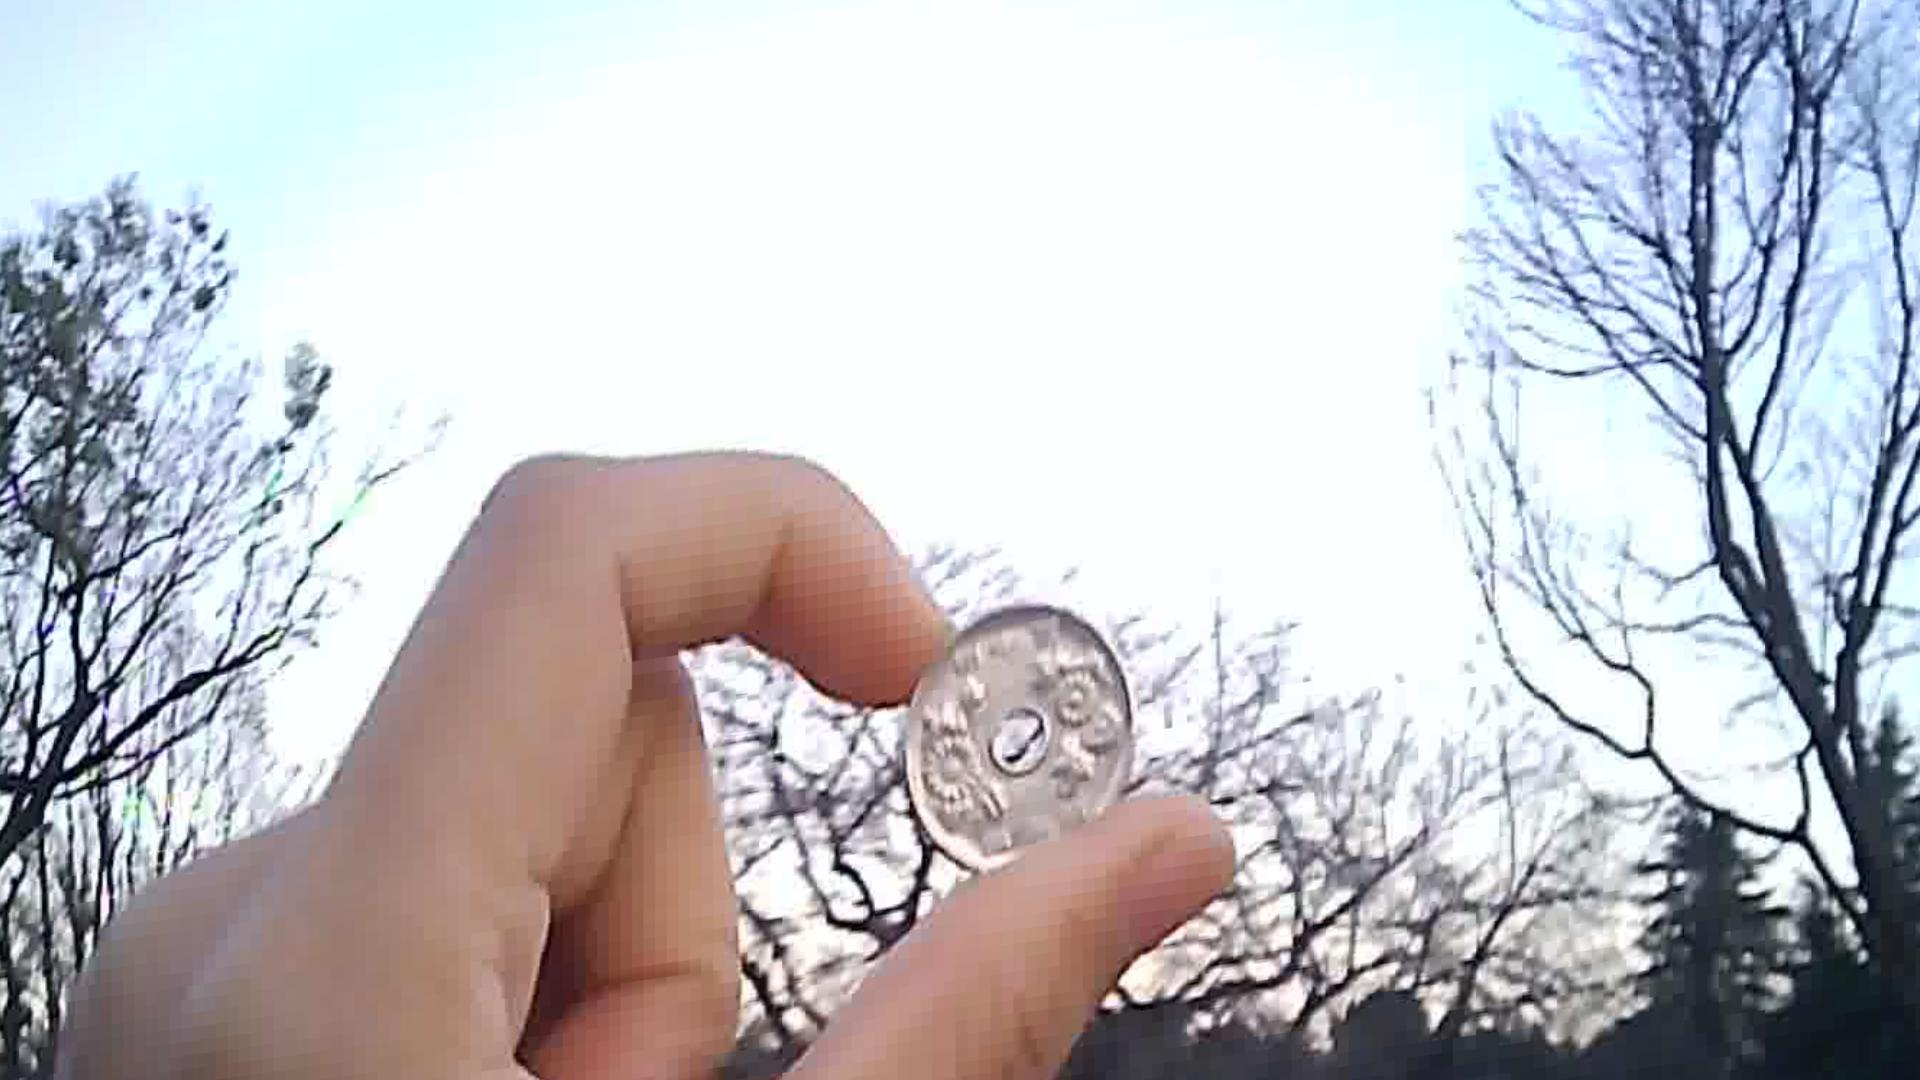50 Yen: (897, 582, 1142, 876)
